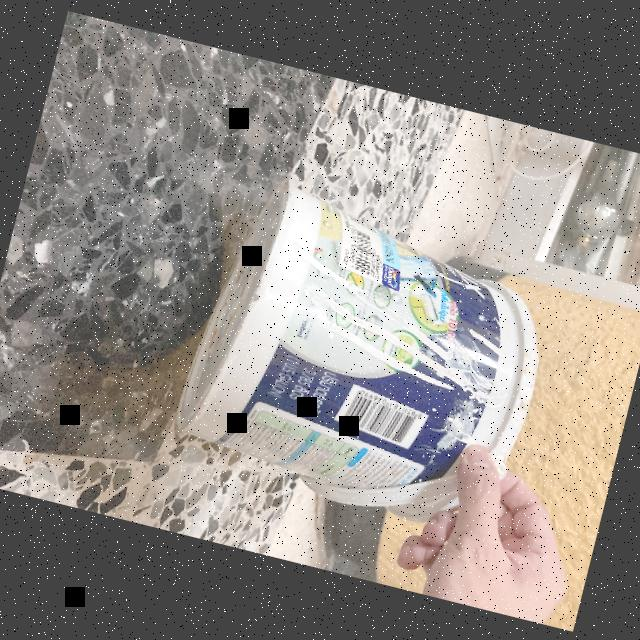paint_bucket: (160, 169, 570, 545)
